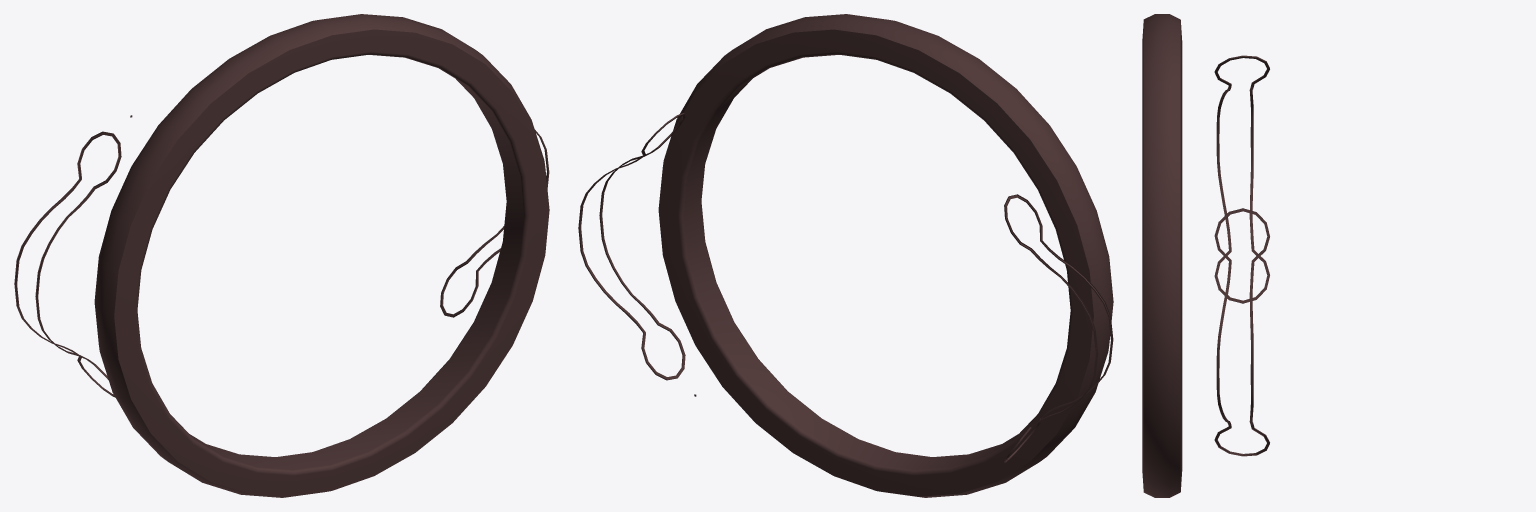
Rendered from MeshPot_29_0_GeomSubset_1.obj.
The picture shows the model from 3 angles, left to right: view 1: azimuth 30°, elevation 25°; view 2: azimuth 150°, elevation 25°; view 3: azimuth 270°, elevation 25°; orthographic projection. The views are drawn at different scales.
Visible parts, largest first — view 1: MeshPot_29_0_GeomSubset_1; view 2: MeshPot_29_0_GeomSubset_1; view 3: MeshPot_29_0_GeomSubset_1.
Part boxes in pixels (bbox=[...]): MeshPot_29_0_GeomSubset_1: bbox=[14, 14, 549, 497]; MeshPot_29_0_GeomSubset_1: bbox=[578, 14, 1113, 497]; MeshPot_29_0_GeomSubset_1: bbox=[1142, 14, 1269, 497].
Size of the model in its own units: 0.258 by 0.2217 by 0.1734.
